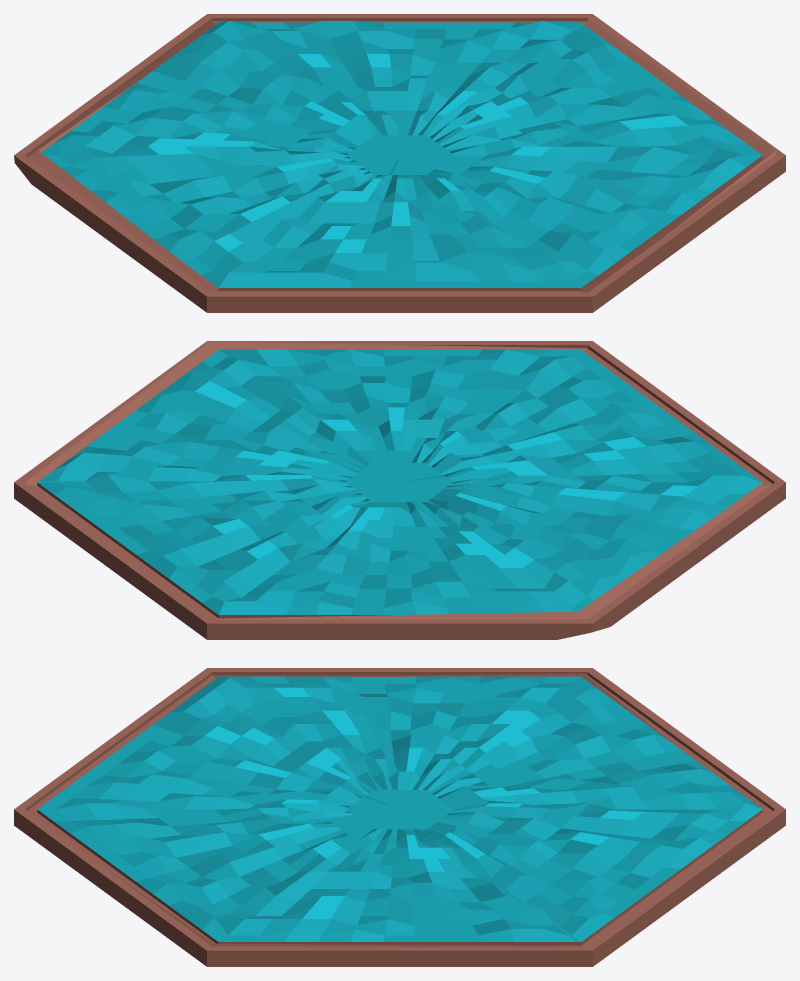
The model's file is Hexagon_water.glb.
3 renders of one model, top to bottom at view 1: azimuth 30°, elevation 25°; view 2: azimuth 150°, elevation 25°; view 3: azimuth 270°, elevation 25°, orthographic.
Parts seen in each view (by area): view 1: Circle; view 2: Circle; view 3: Circle.
Boxes of the visible parts, bbox=[...] form: Circle: bbox=[14, 14, 785, 312]; Circle: bbox=[14, 341, 785, 639]; Circle: bbox=[14, 668, 785, 966].
Bounding box in the file's own units: 30.17 × 1.17 × 34.84.
1 material, 1 textured.
